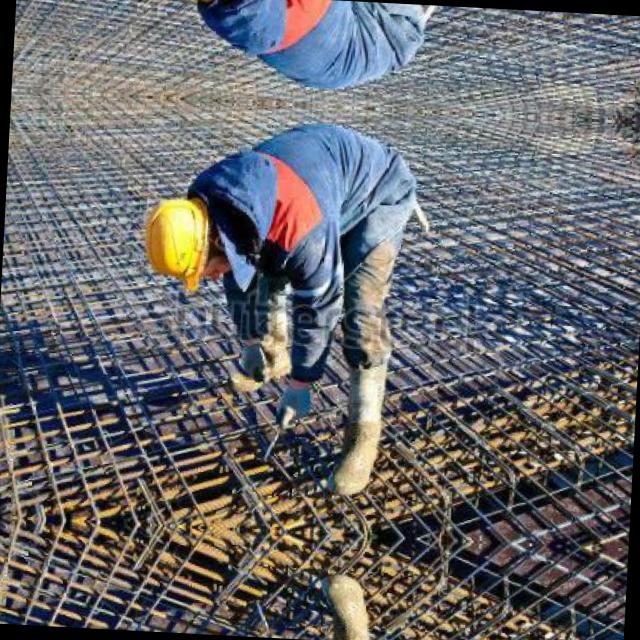helmet: (136, 192, 241, 286)
